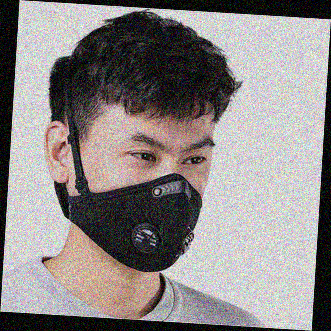with_mask: (66, 128, 212, 273)
